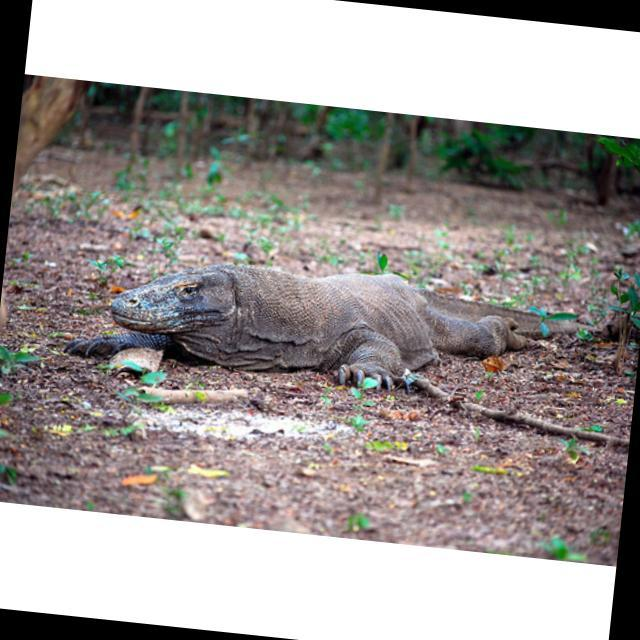KomodoDragon: (102, 246, 606, 409)
